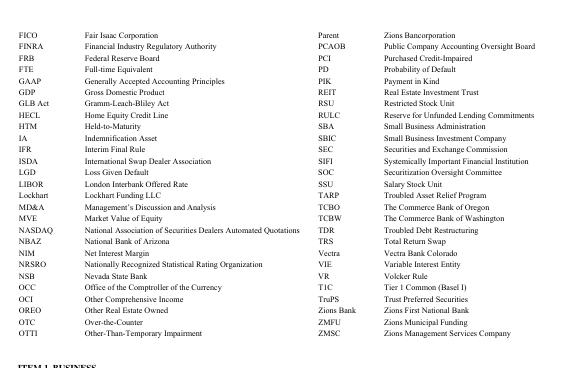table: (17, 29, 534, 337)
table column: (67, 29, 307, 337), (368, 29, 534, 337), (307, 29, 368, 337), (17, 29, 67, 337)
table column header: (17, 29, 534, 39)
table row: (17, 39, 534, 51), (17, 62, 534, 74), (17, 96, 534, 108), (17, 119, 534, 131), (17, 142, 534, 154), (17, 165, 534, 177), (17, 188, 534, 200), (17, 211, 534, 223), (17, 234, 534, 246), (17, 257, 534, 269), (17, 280, 534, 292), (17, 303, 534, 315), (17, 51, 534, 62), (17, 74, 534, 85), (17, 85, 534, 96), (17, 108, 534, 119), (17, 131, 534, 142), (17, 154, 534, 165), (17, 177, 534, 188), (17, 200, 534, 211), (17, 223, 534, 234), (17, 246, 534, 257), (17, 269, 534, 280), (17, 292, 534, 303), (17, 315, 534, 326), (17, 326, 534, 337), (17, 29, 534, 39)
